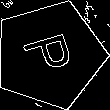P_E: (19, 30, 80, 80)
